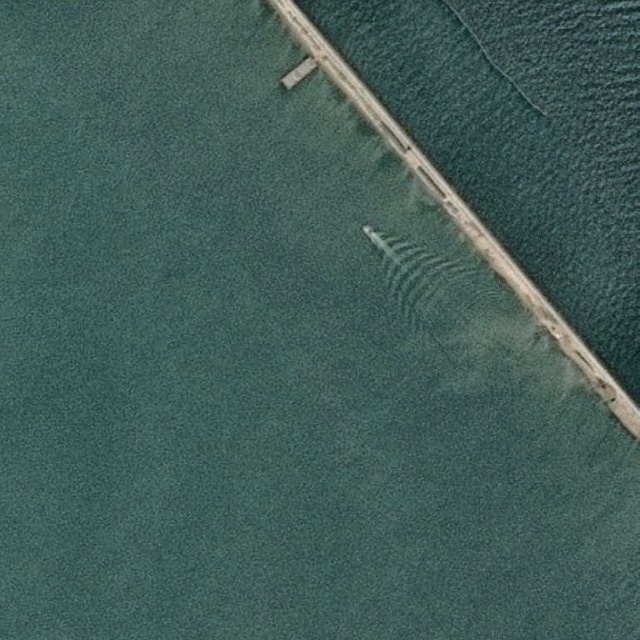wake: (333, 195, 458, 322)
